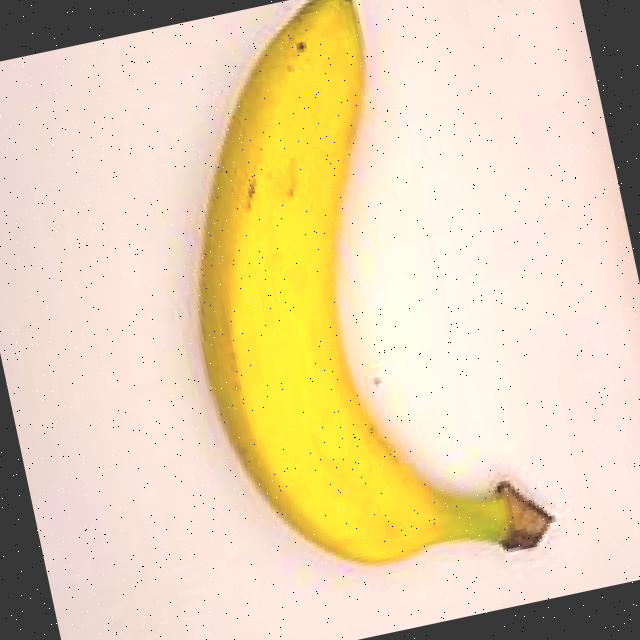Ripe: (128, 0, 587, 640)
